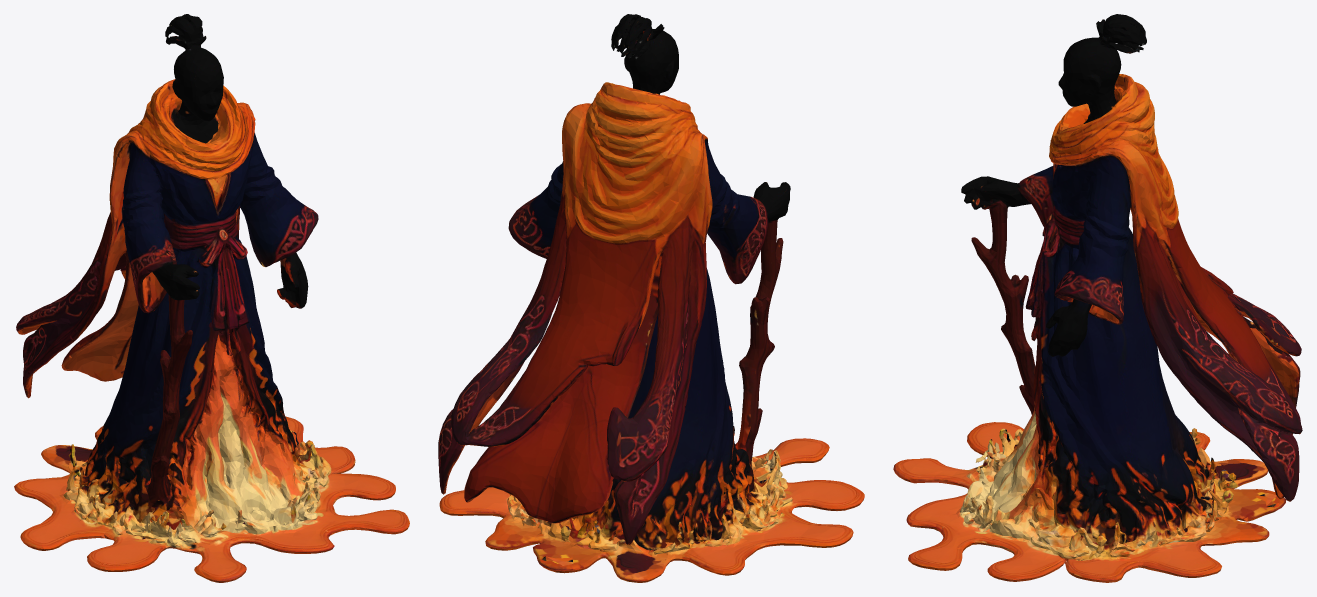
3 renders of one model, left to right at view 1: azimuth 30°, elevation 25°; view 2: azimuth 150°, elevation 25°; view 3: azimuth 270°, elevation 25°, orthographic. The views are drawn at different scales.
Parts seen in each view (by area): view 1: textured_mesh.obj; view 2: textured_mesh.obj; view 3: textured_mesh.obj.
Boxes of the visible parts, left/top/right/bottom form: textured_mesh.obj: left=14, top=14, right=409, bottom=582; textured_mesh.obj: left=438, top=14, right=864, bottom=582; textured_mesh.obj: left=893, top=14, right=1302, bottom=582.
Size of the model in its own units: 1.49 by 1.99 by 1.51.
Materials: 1 (1 with a texture image).
